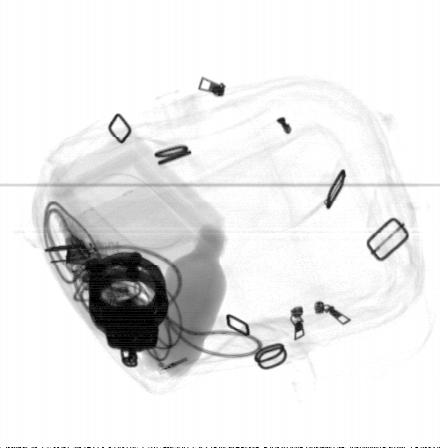HandCuffs: (87, 251, 169, 371)
